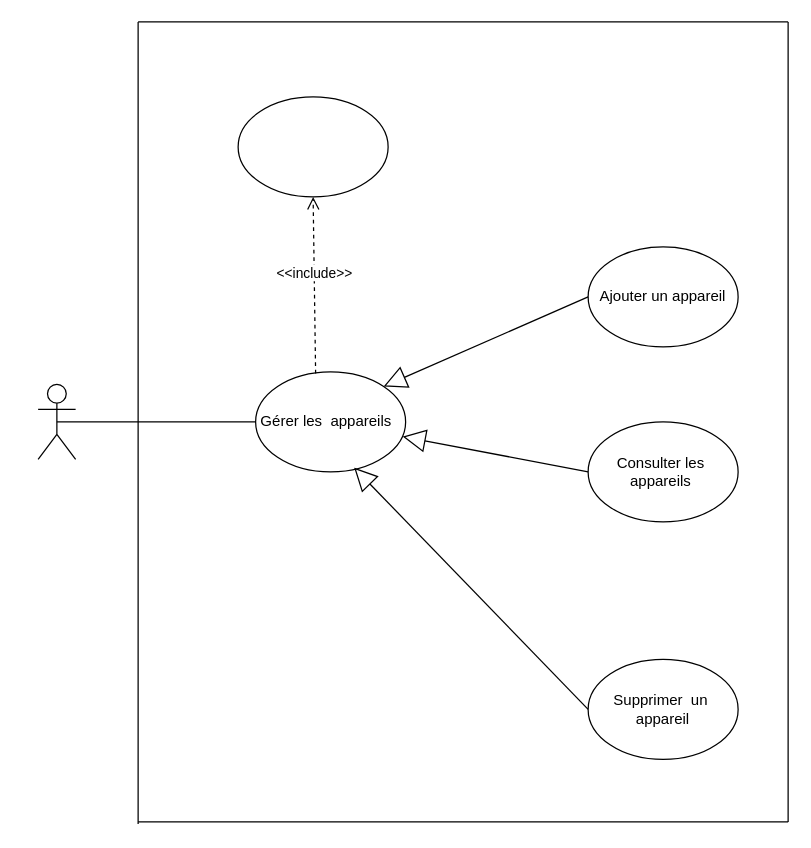
Image size: 811x848. Some labels were removed from this diagram. Each missing label, with the centre of its shape:
S'authentifier: pixel 312 146
Utilisateur: pixel 56 421
